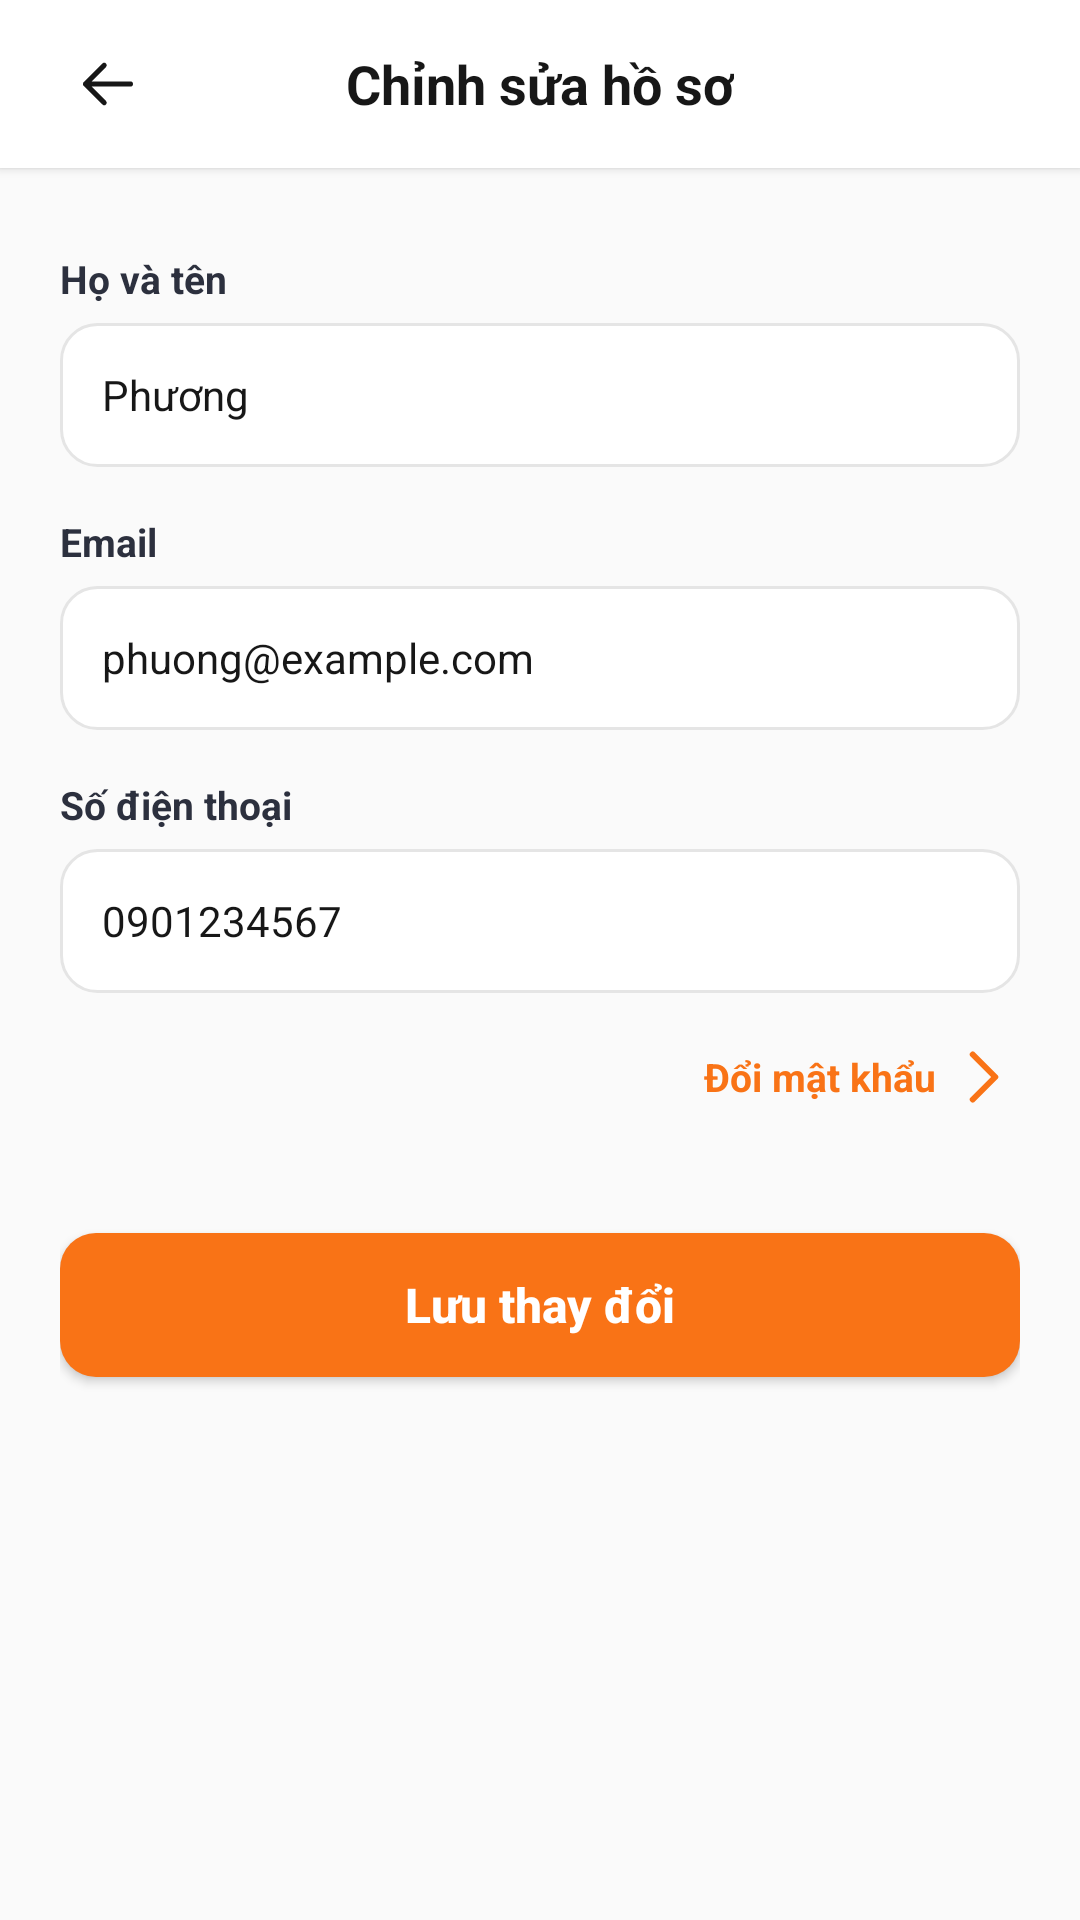

Screen size 1080w x 1920h. Icon name, then its box in pixels as [x1=x1, y1=y1, x2=x2, y2=y2]:
arrow left: [x1=83, y1=62, x2=133, y2=106]
